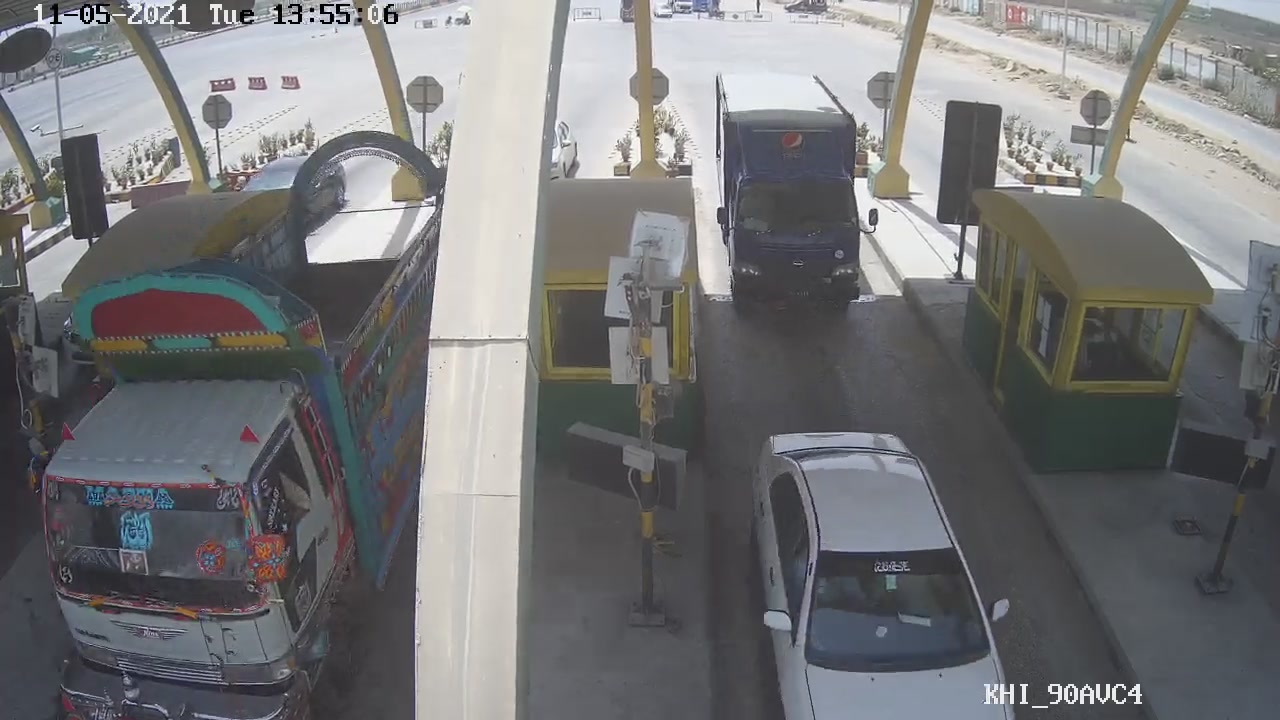F5: (706, 67, 879, 327)
